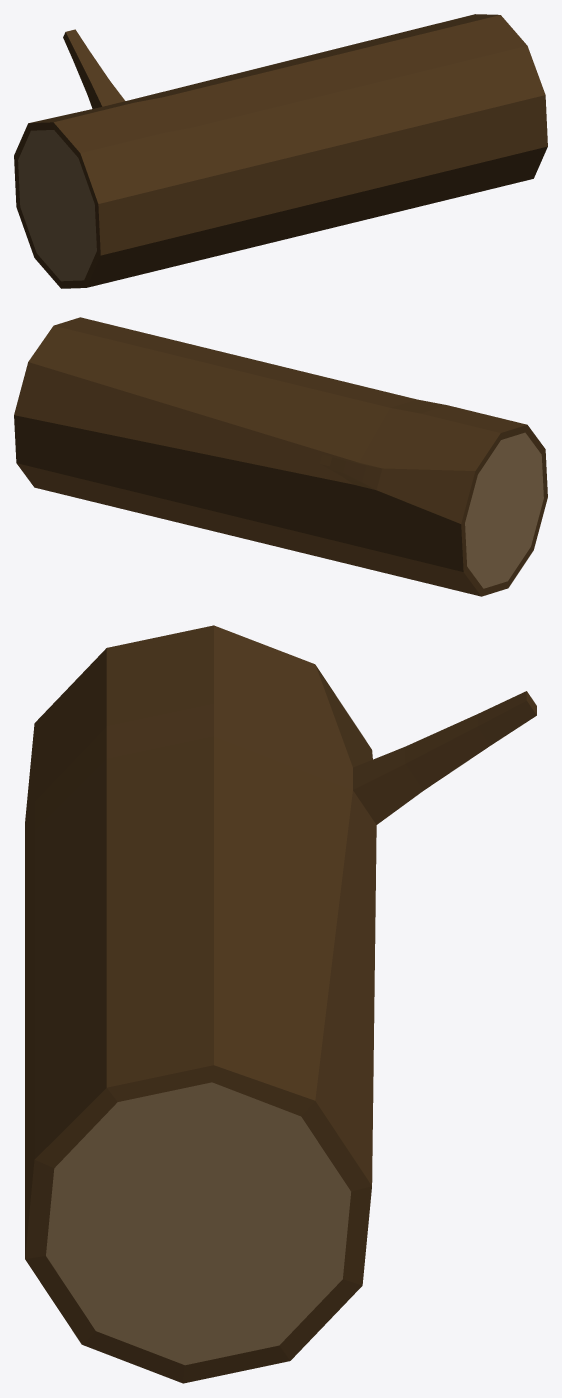
The model's file is breaktree.fbx.
The picture shows the model from 3 angles, top to bottom: view 1: azimuth 30°, elevation 25°; view 2: azimuth 150°, elevation 25°; view 3: azimuth 270°, elevation 25°; orthographic projection. The views are drawn at different scales.
Parts seen in each view (by area): view 1: Cylinder; view 2: Cylinder; view 3: Cylinder.
Boxes of the visible parts, x1,y1,x2,y2 form: Cylinder: (14,14,547,288); Cylinder: (14,317,547,596); Cylinder: (25,625,536,1383).
Bounding box in the file's own units: 581 × 213 × 287.
